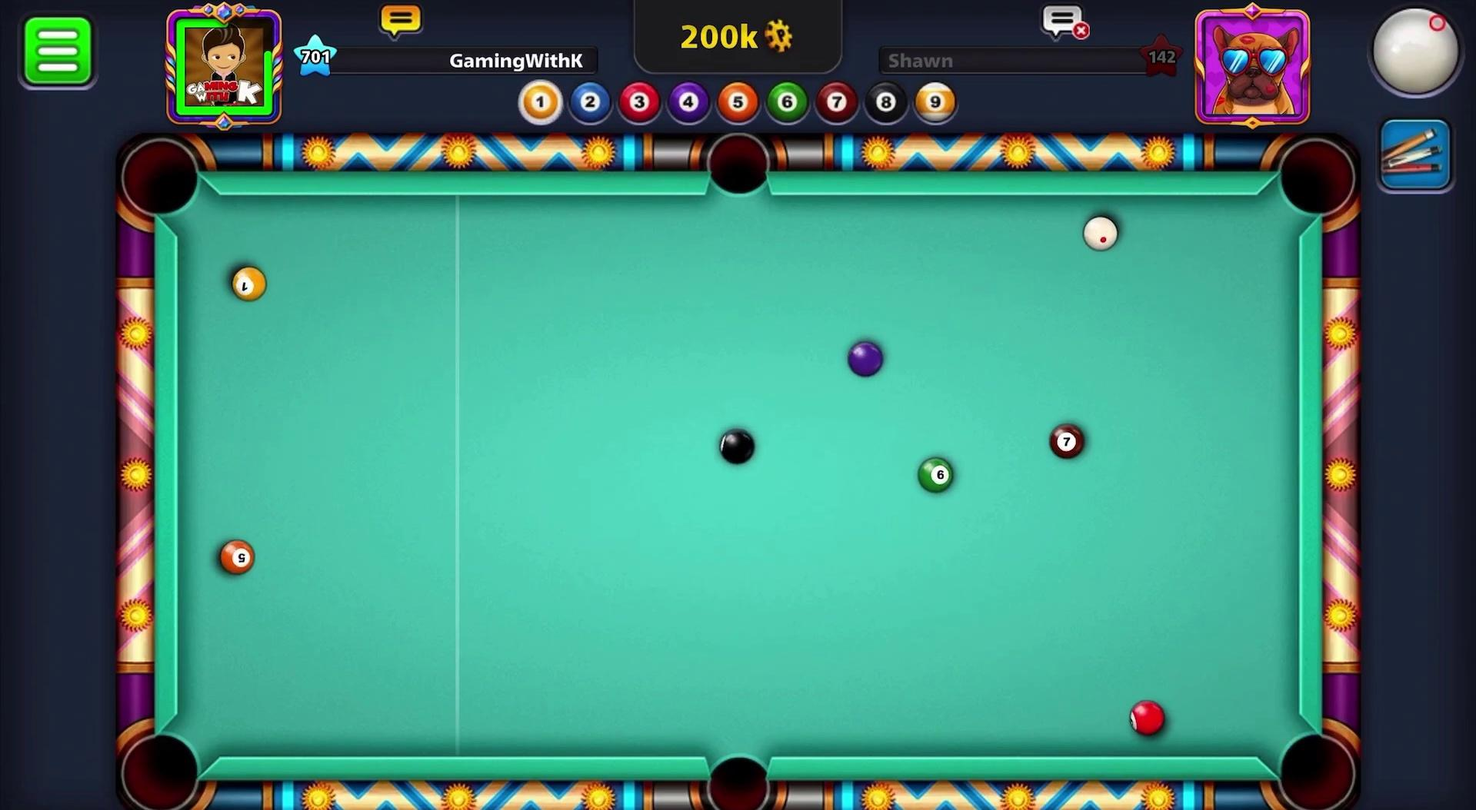Ball: (841, 335, 890, 384), (711, 423, 762, 470), (228, 258, 270, 309), (917, 448, 956, 498), (1047, 417, 1088, 463), (217, 533, 257, 579), (1124, 697, 1170, 735)
Hole: (108, 126, 222, 238), (1261, 712, 1367, 809), (1267, 131, 1364, 232), (112, 722, 209, 809), (686, 736, 785, 809), (699, 123, 782, 207)
Play_Area: (179, 194, 1302, 759)
Spin: (1342, 0, 1474, 114)
White: (1078, 211, 1124, 256)
